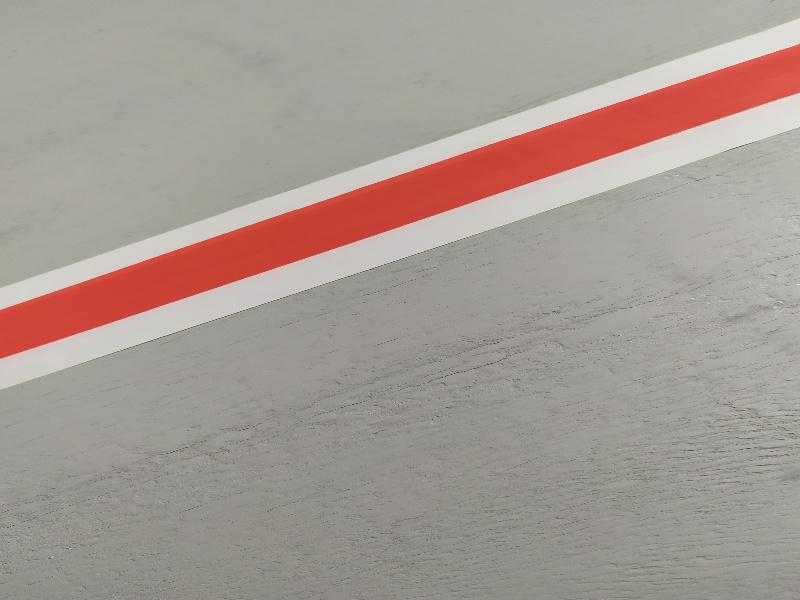faixa: (76, 18, 796, 373), (2, 284, 64, 377)
